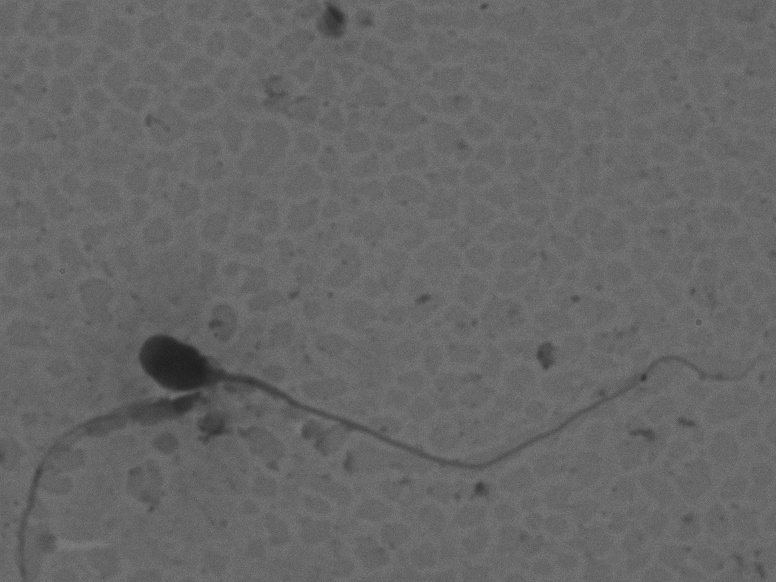Abnormal: (116, 300, 764, 478)
